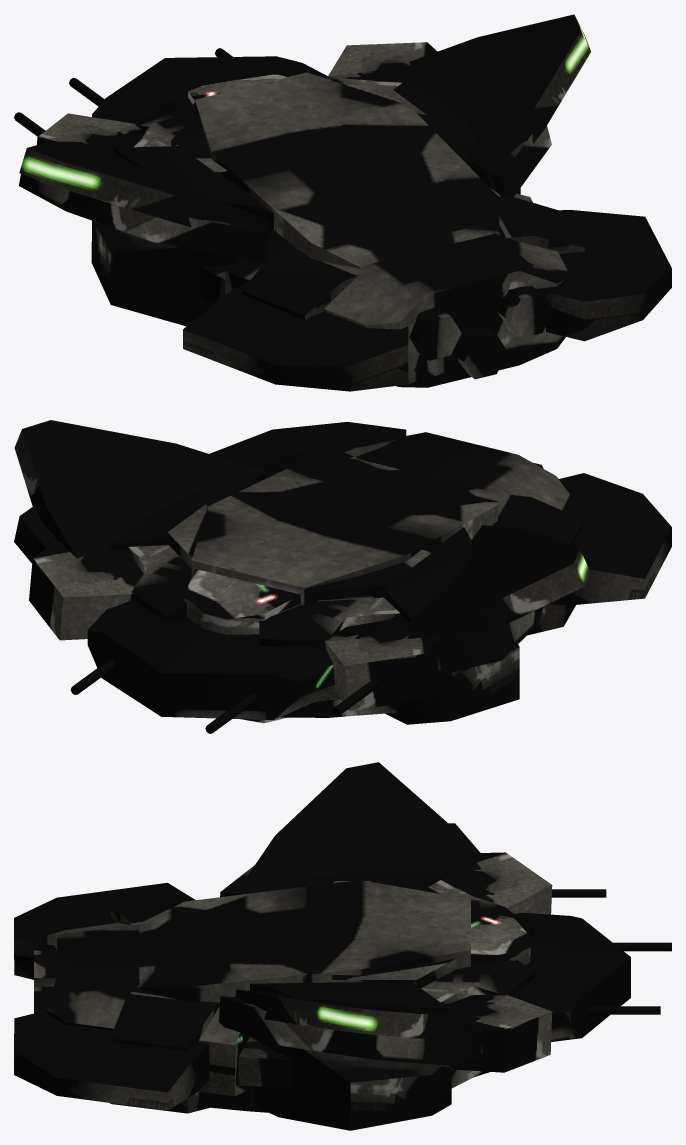
File: ship09c.fbx
3 views of the same model, one above another, from view 1: azimuth 30°, elevation 25°; view 2: azimuth 150°, elevation 25°; view 3: azimuth 270°, elevation 25° (orthographic). The views are drawn at different scales.
Visible parts, largest first — view 1: PipelineFBX; view 2: PipelineFBX; view 3: PipelineFBX.
Boxes of the visible parts, left/top/right/bottom form: PipelineFBX: left=14, top=14, right=671, bottom=391; PipelineFBX: left=14, top=420, right=671, bottom=733; PipelineFBX: left=14, top=762, right=671, bottom=1130.
Size of the model in its own units: 505 by 177 by 547.
Materials: 1 (1 with a texture image).
